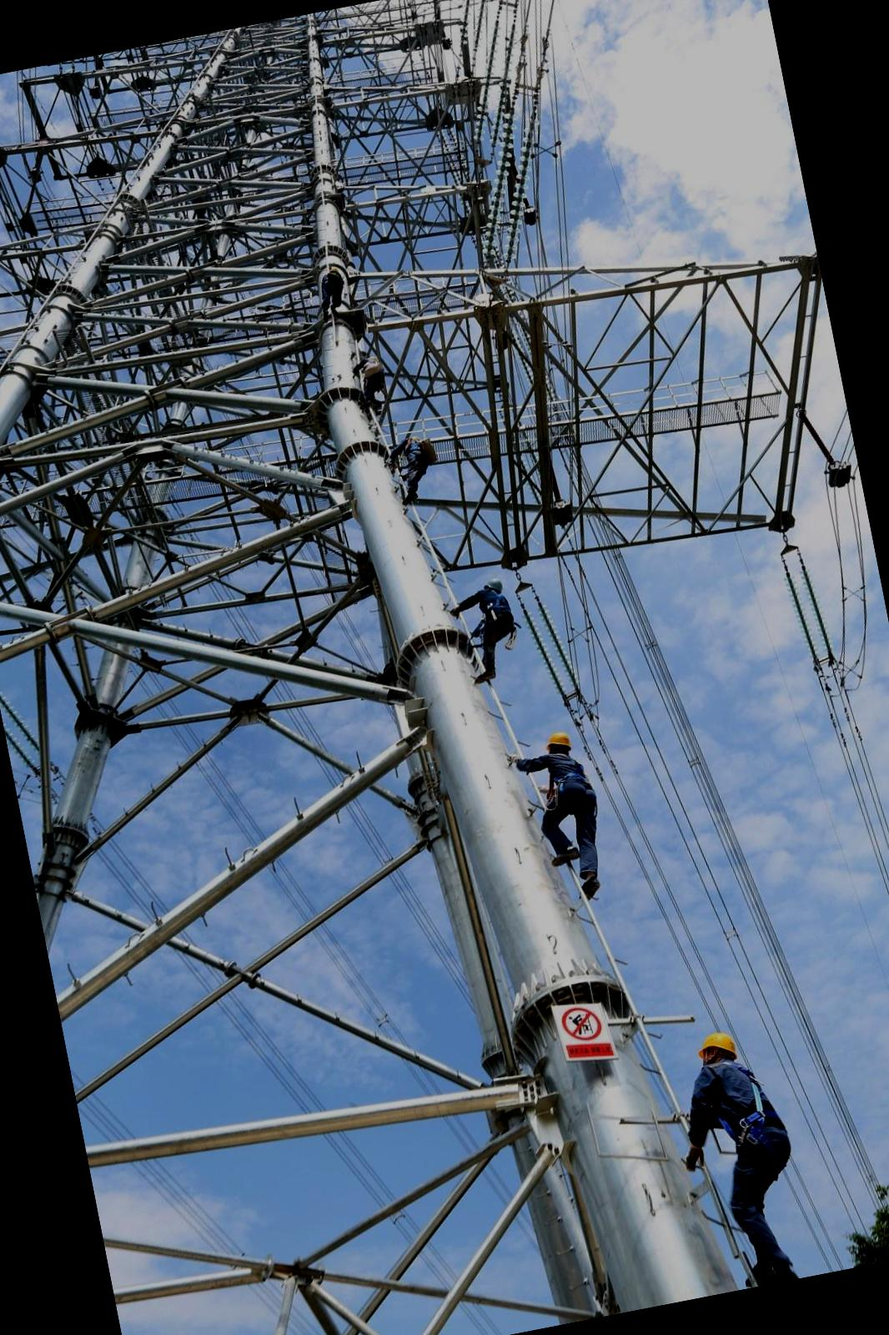helmet: (691, 1028, 742, 1067), (542, 728, 578, 757)
person: (657, 1019, 820, 1297), (503, 725, 620, 910), (456, 570, 528, 685)
